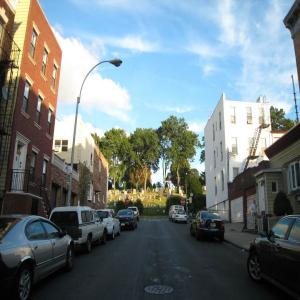Vehicle-registration-plate: (210, 223, 218, 228)
